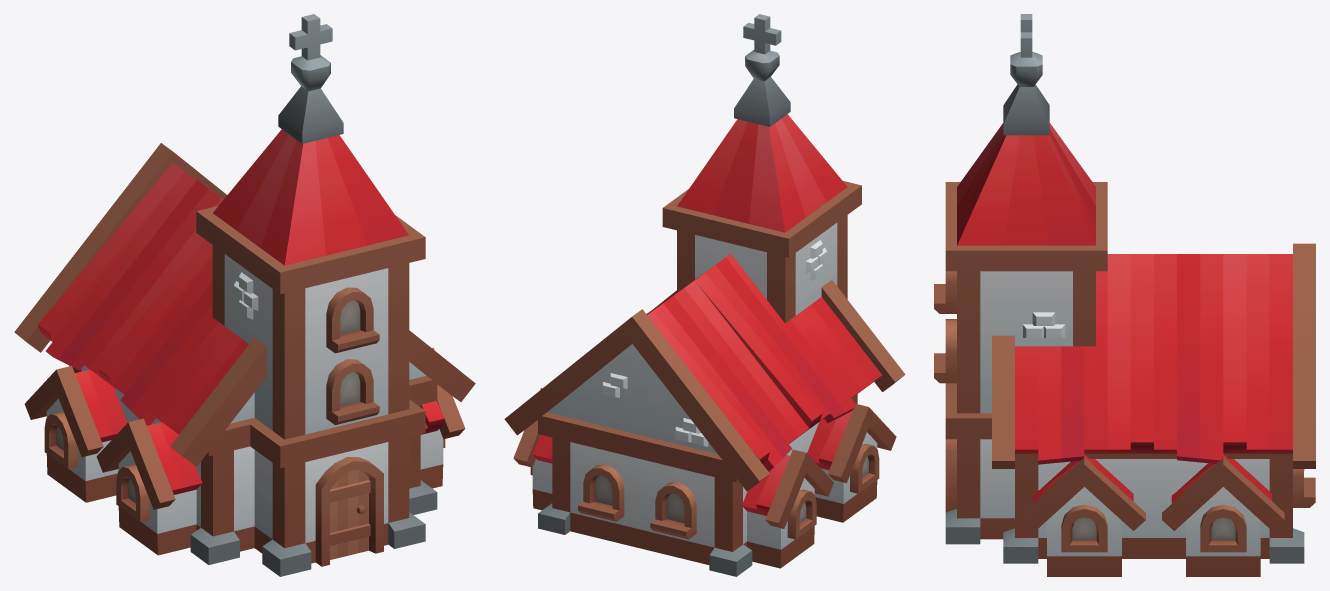
The model's file is kay-igreja-vermelha.gltf.
3 views of the same model, side by side, from view 1: azimuth 30°, elevation 25°; view 2: azimuth 150°, elevation 25°; view 3: azimuth 270°, elevation 25° (orthographic). The views are drawn at different scales.
Visible parts, largest first — view 1: building_church_red; view 2: building_church_red; view 3: building_church_red.
Part boxes in pixels (bbox=[...]): building_church_red: bbox=[14, 14, 475, 576]; building_church_red: bbox=[504, 14, 905, 576]; building_church_red: bbox=[934, 14, 1315, 576].
Size of the model in its own units: 5.15 by 8.23 by 5.77.
Materials: 1 (1 with a texture image).
